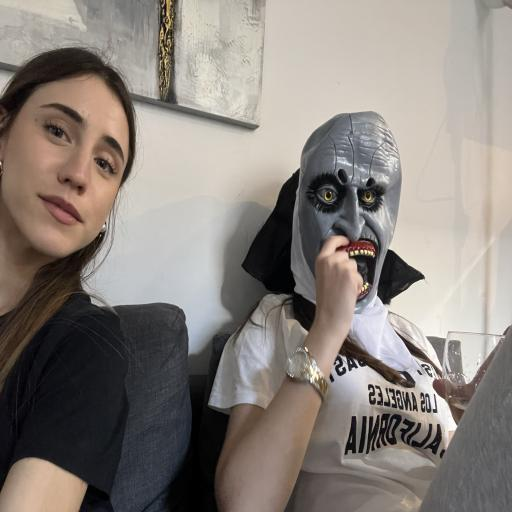masa: (0, 47, 132, 259)
